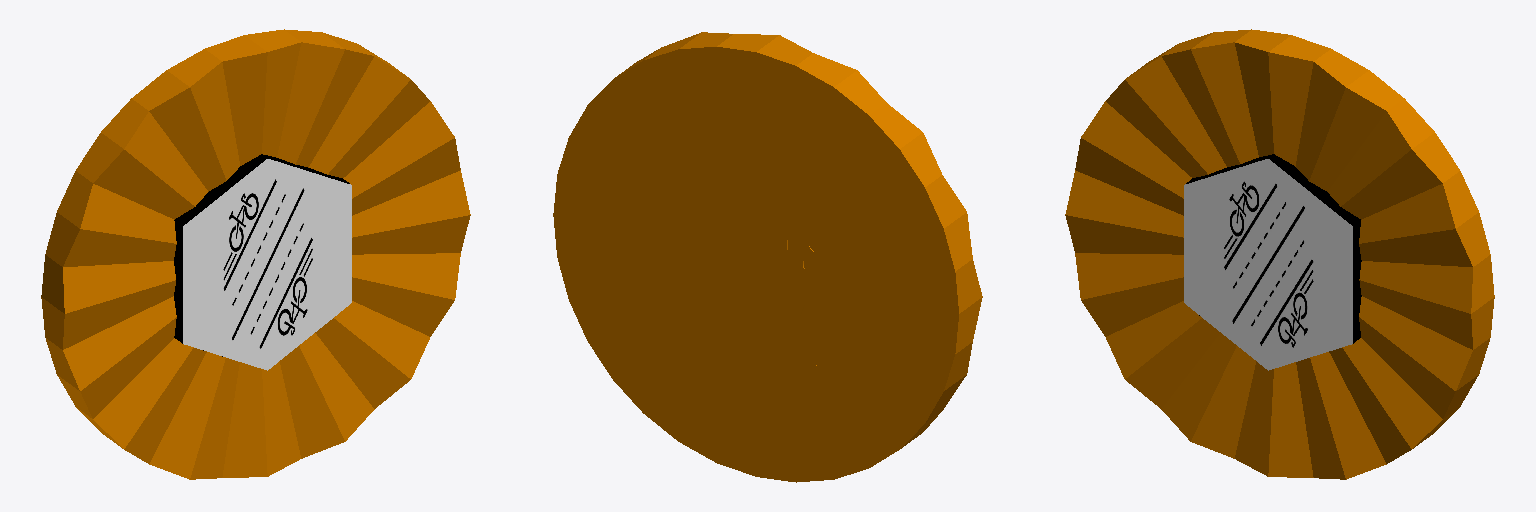
3 views of the same model, side by side, from view 1: azimuth 30°, elevation 25°; view 2: azimuth 150°, elevation 25°; view 3: azimuth 330°, elevation 25° (orthographic).
Parts seen in each view (by area): view 1: Cylinder; view 2: Cylinder; view 3: Cylinder.
Boxes of the visible parts, x1=… form: Cylinder: x1=41, y1=29, x2=470, y2=479; Cylinder: x1=553, y1=32, x2=982, y2=482; Cylinder: x1=1065, y1=29, x2=1494, y2=479.
Bounding box in the file's own units: 10 × 10 × 1.
3 materials, 1 textured.